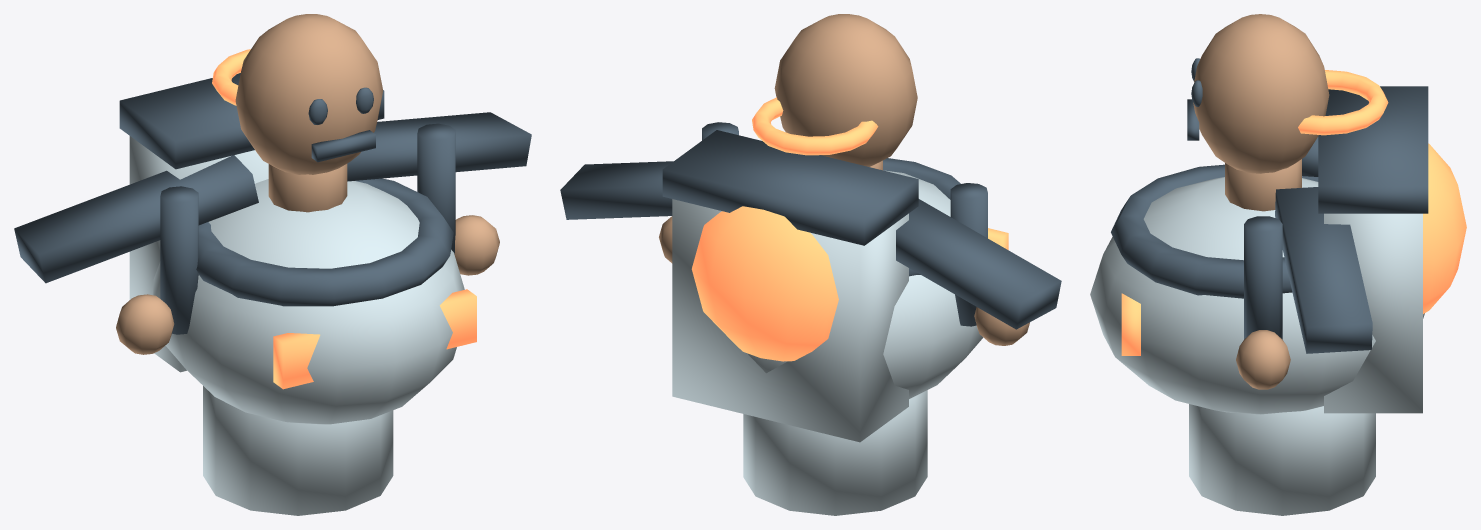
Rendered from porcelain-raider-bomber-v001.glb.
3 renders of one model, left to right at view 1: azimuth 30°, elevation 25°; view 2: azimuth 150°, elevation 25°; view 3: azimuth 270°, elevation 25°, orthographic. The views are drawn at different scales.
Visible parts, largest first — view 1: bowl, pedestal, head, wing-left, rim, tank-lid, wing-right, arm-left, tank, energy-band, arm-right, neck (+4 smaller); view 2: tank, bomb-pack, tank-lid, head, pedestal, wing-left, bowl, wing-right, warning-ring, arm-left, rim, hand-left; view 3: bowl, pedestal, head, tank, tank-lid, wing-right, rim, bomb-pack, arm-right, warning-ring, hand-right, neck (+3 smaller).
Part boxes in pixels (box(x1,y1,x2,y2)): bowl: box(153, 179, 464, 424); pedestal: box(203, 386, 393, 515); head: box(235, 14, 383, 174); wing-left: box(14, 155, 258, 283); rim: box(196, 178, 453, 306); tank-lid: box(119, 73, 384, 169); wing-right: box(347, 112, 531, 181); arm-left: box(160, 186, 198, 334); tank: box(129, 136, 268, 372); energy-band: box(273, 289, 476, 389); arm-right: box(417, 123, 455, 254); neck: box(268, 164, 347, 212); tank: box(672, 199, 908, 442); bomb-pack: box(691, 206, 838, 361); tank-lid: box(662, 130, 918, 245); head: box(774, 14, 917, 166); pedestal: box(743, 390, 927, 515); wing-left: box(896, 199, 1061, 329); bowl: box(747, 170, 983, 398); wing-right: box(560, 161, 673, 219); warning-ring: box(752, 97, 878, 155); arm-left: box(950, 183, 987, 326); rim: box(883, 158, 960, 276); hand-left: box(974, 307, 1029, 345); bowl: box(1090, 177, 1424, 414); pedestal: box(1189, 404, 1375, 515); head: box(1193, 14, 1329, 173); tank: box(1324, 213, 1422, 413); tank-lid: box(1318, 86, 1428, 213); wing-right: box(1275, 187, 1372, 353); rim: box(1111, 164, 1318, 298); bomb-pack: box(1423, 143, 1466, 313); arm-right: box(1244, 216, 1282, 339); warning-ring: box(1298, 70, 1388, 135); hand-right: box(1236, 330, 1290, 389); neck: box(1225, 159, 1301, 211).
Size of the model in its own units: 2.03 by 1.83 by 1.37.
